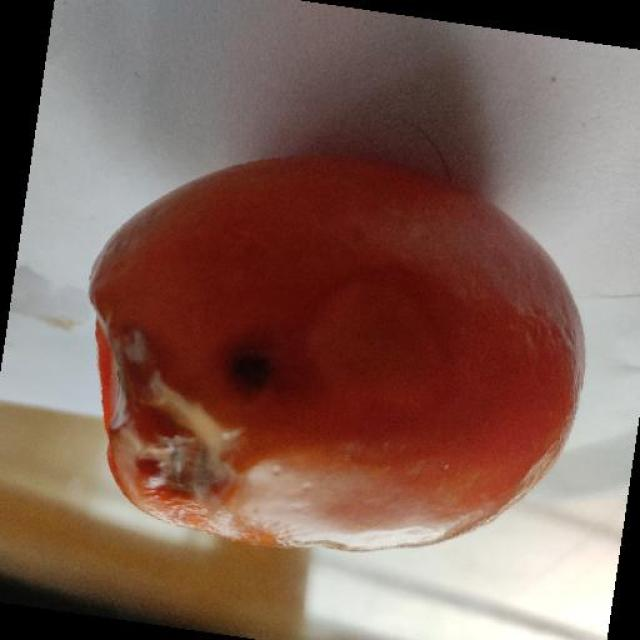Stale_tomato: (92, 191, 568, 521)
